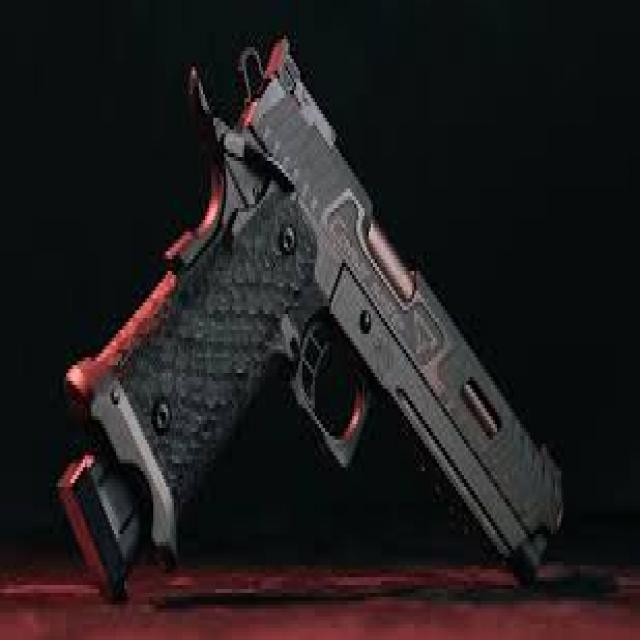semi automatic: (52, 25, 572, 620)
